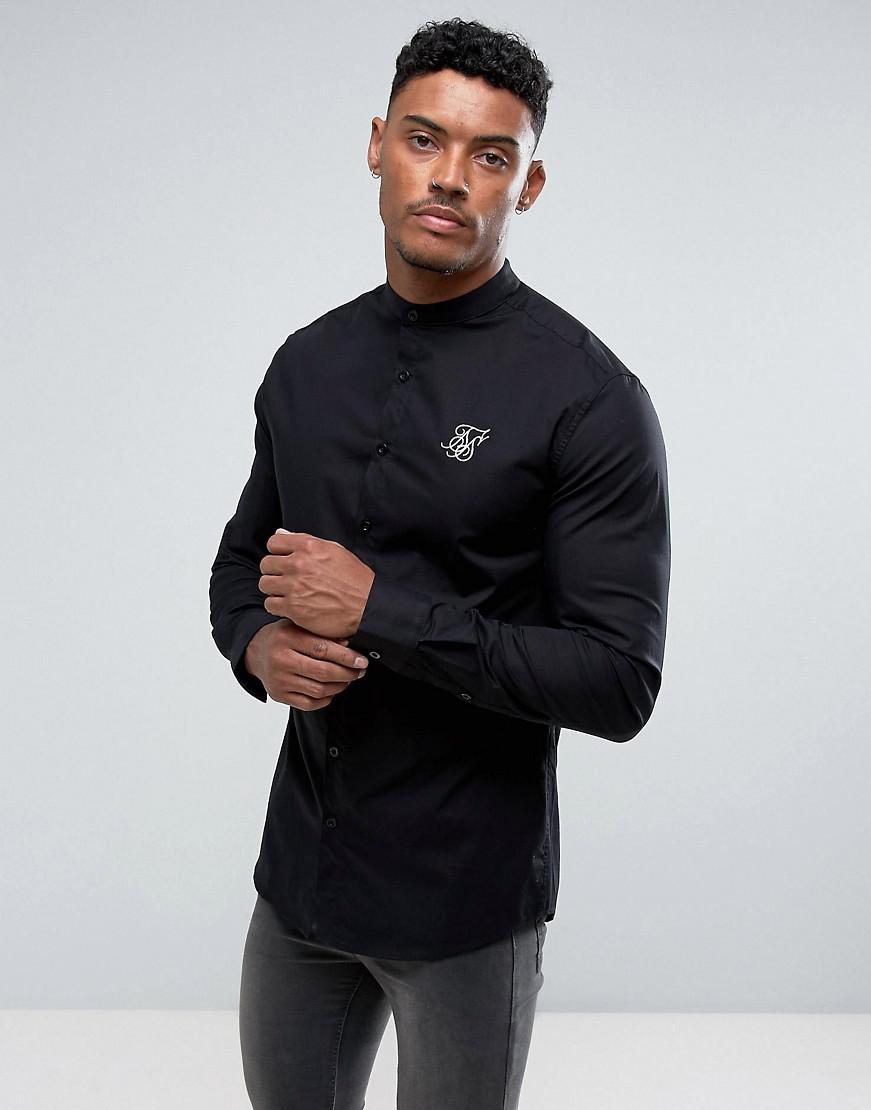teeshirt: (201, 266, 686, 962)
